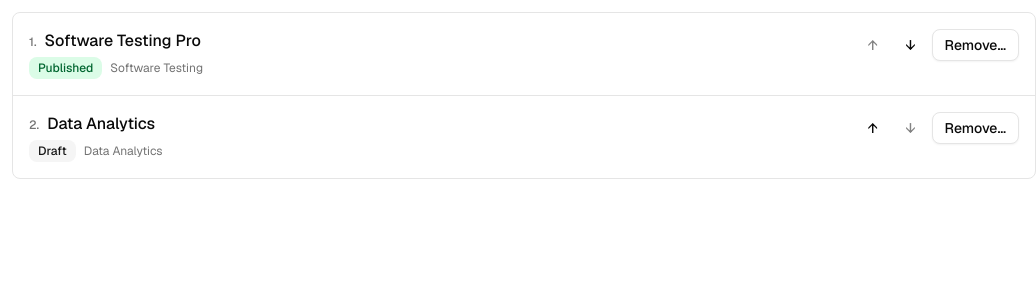
Test: FeaturedProgramsManager › confirms a move, naming the new position, and sends the list as shown
Expected: the button named "Move Software Testing up" is disabled, [856, 29, 890, 61]
Click the button named "Move Data Analytics up".
click(873, 128)  # box [856, 112, 890, 144]
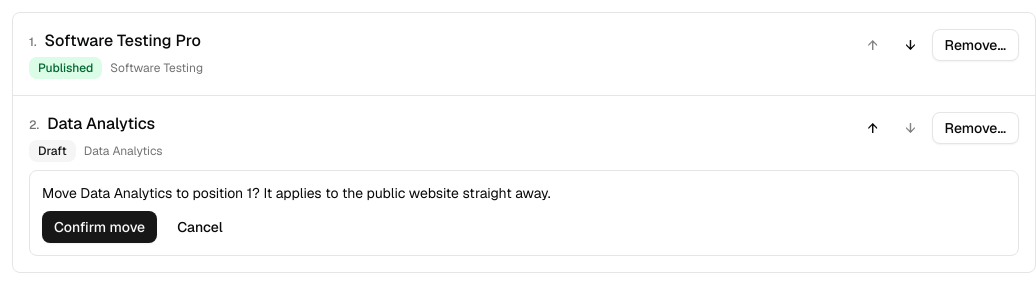
Now the text "Move Data Analytics to position 1?" is shown, box [42, 184, 551, 202]
Click the button "Confirm move".
click(100, 227)  # box [42, 211, 157, 243]
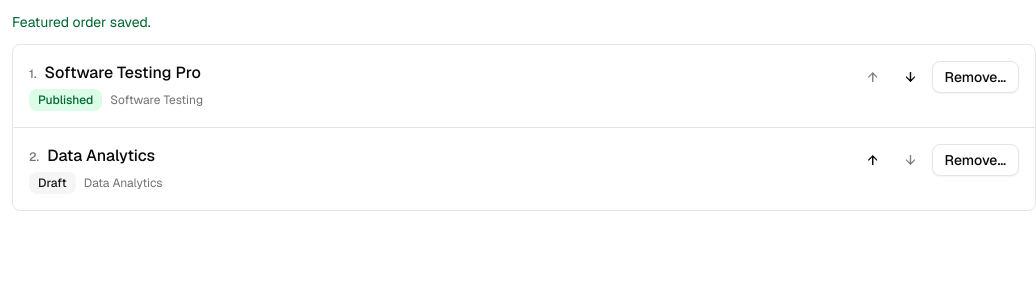
Now the message reads "Featured order saved.", box [12, 13, 151, 31]
